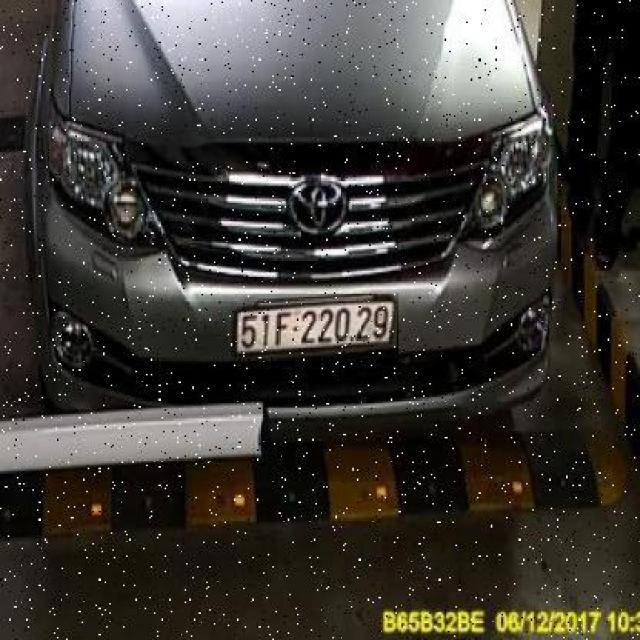number_plate: (228, 294, 398, 364)
